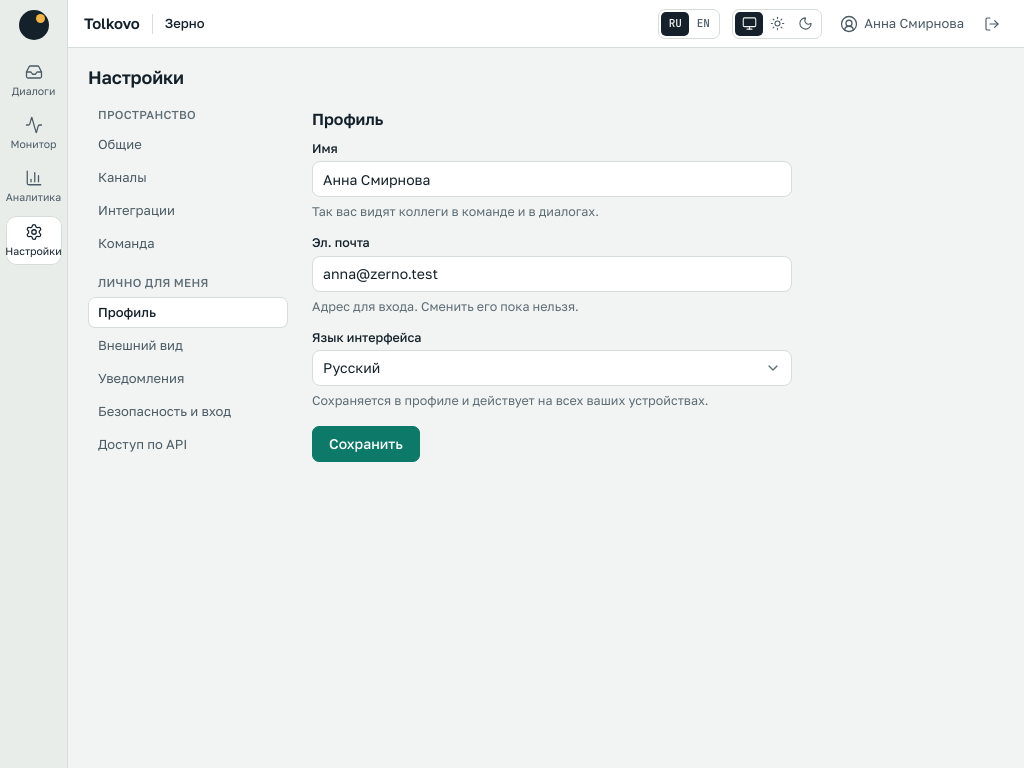
Test case: profile › shows the email read-only and saves name and language to the server
Expected: the field labelled "Эл. почта" holds "anna@zerno.test", [312,256,792,292]
Replace the text in the field labelled "Имя" with "Анна Петрова": (552, 179) [312,161,792,197]
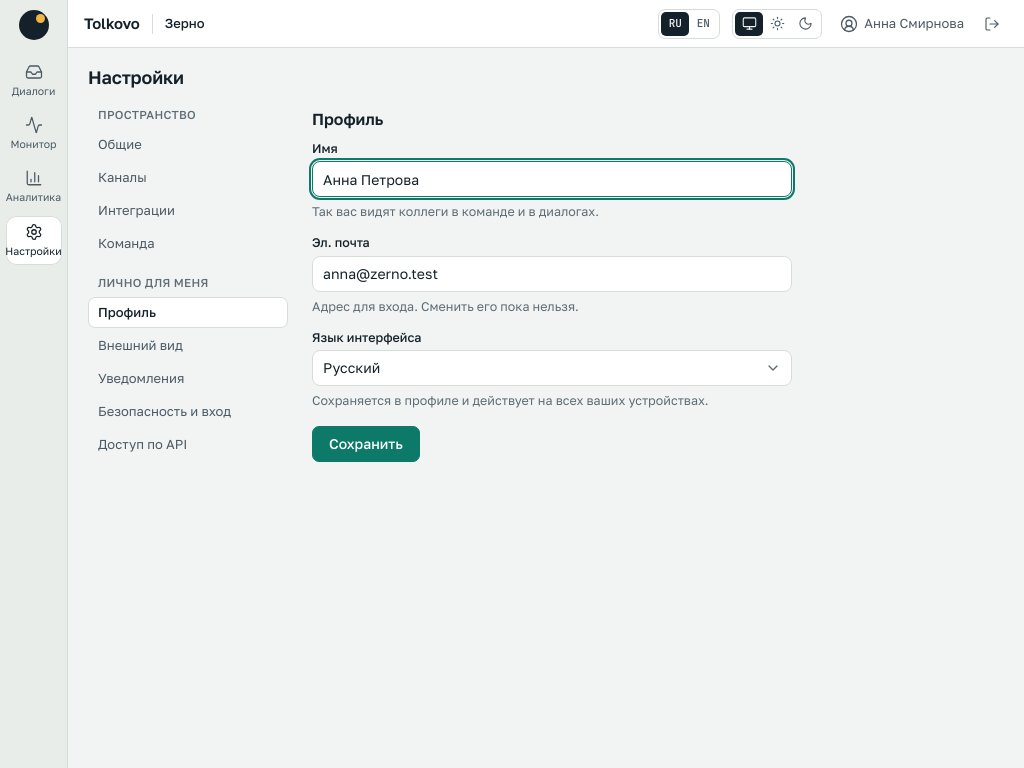
Select "English" in the dropdown labelled "Язык интерфейса": (552, 368) [312,350,792,386]
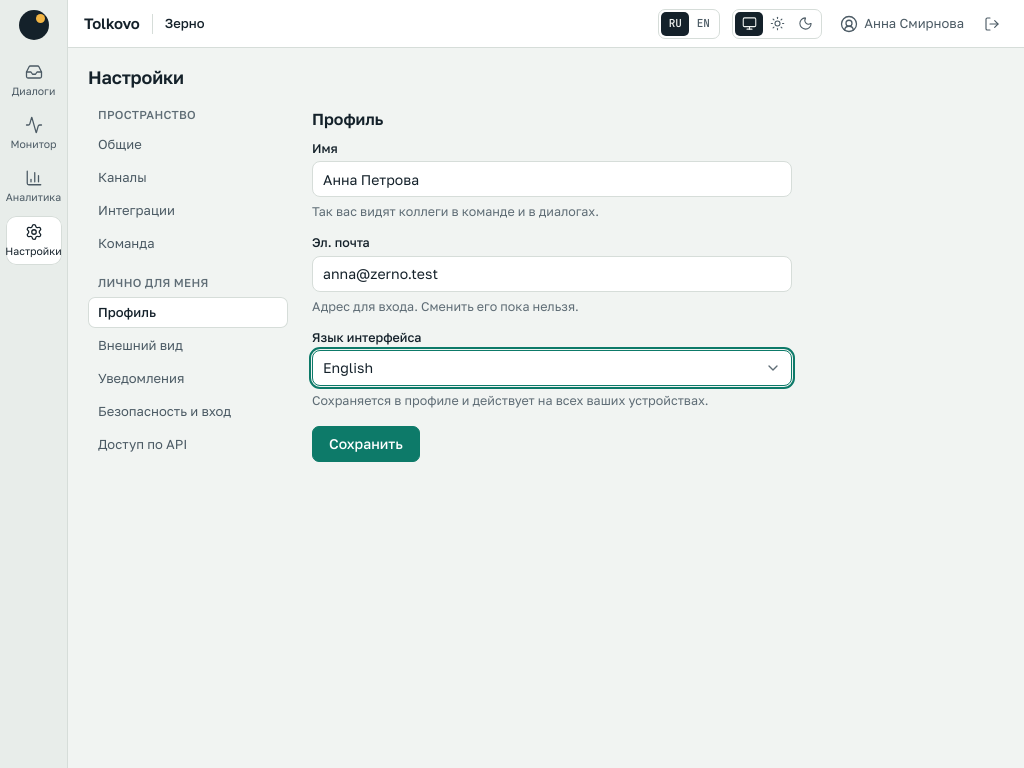
Click the button "Сохранить": (366, 444) [312,426,420,462]
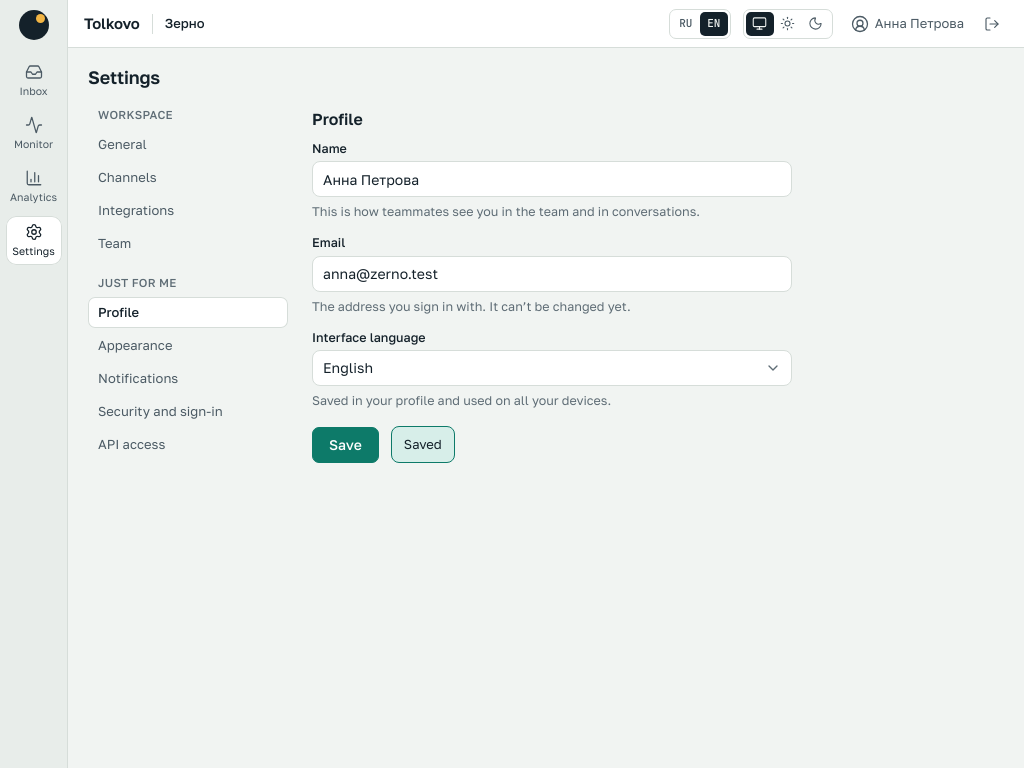
Expected: the heading "Profile" is shown, [312,108,363,128]
Expected: the text "Saved" is shown, [391,426,455,463]
